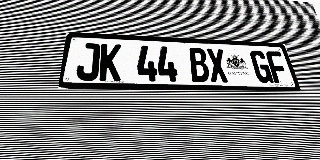4: (137, 45, 158, 81), (157, 46, 178, 82)
B: (188, 48, 211, 82)
F: (265, 51, 290, 83)
G: (249, 50, 274, 83)
J: (75, 43, 100, 81)
K: (99, 44, 121, 81)
X: (206, 48, 229, 82)
